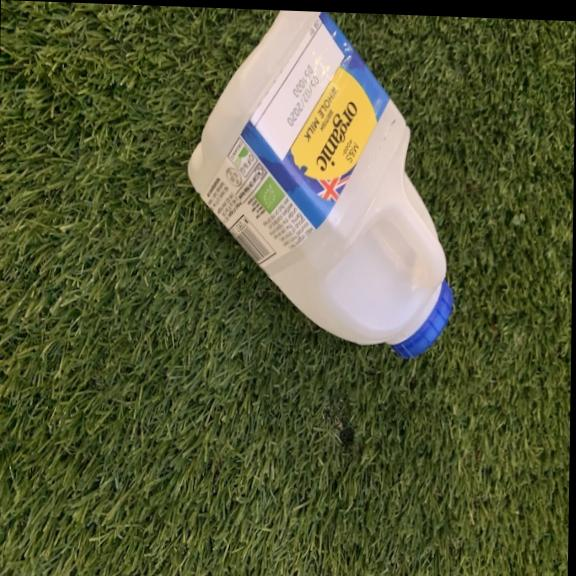Plastik: (178, 9, 459, 361)
